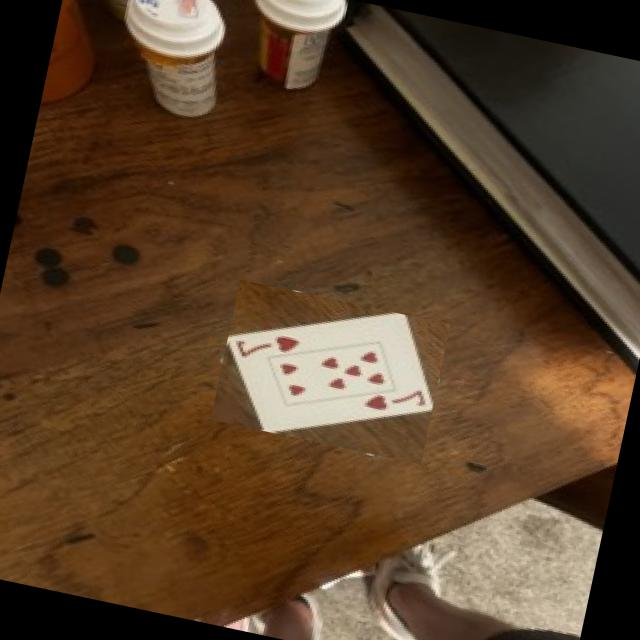7 of hearts: (227, 314, 430, 433)
